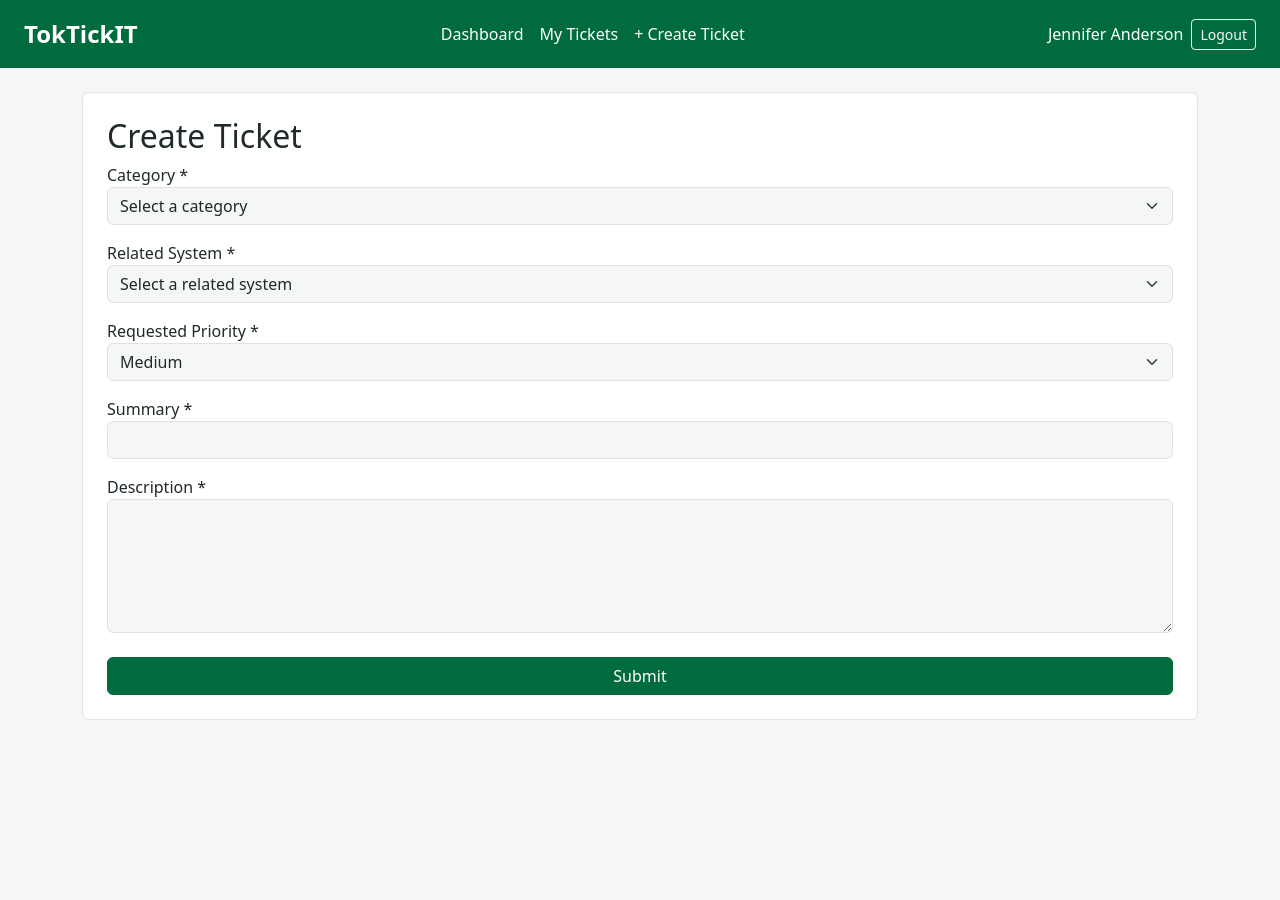
Test: CreateTicket › shows a safe error and preserves form values when backend is unreachable (UI-05)
Select "Hardware" in the dropdown labelled "Category *" at x=640, y=206, box [107, 187, 1173, 225]
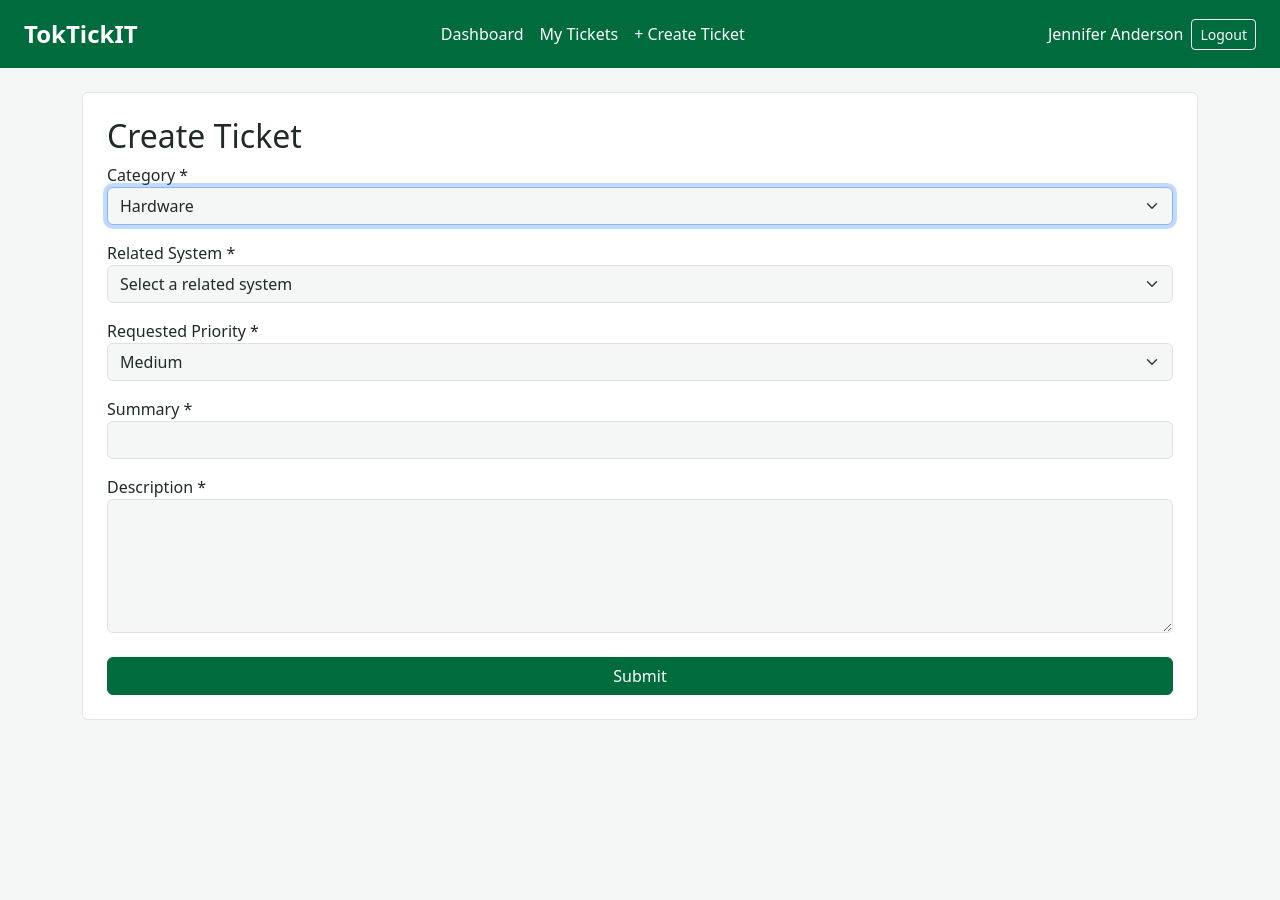
Select "Corporate Laptop" in the dropdown labelled "Related System *" at x=640, y=284, box [107, 265, 1173, 303]
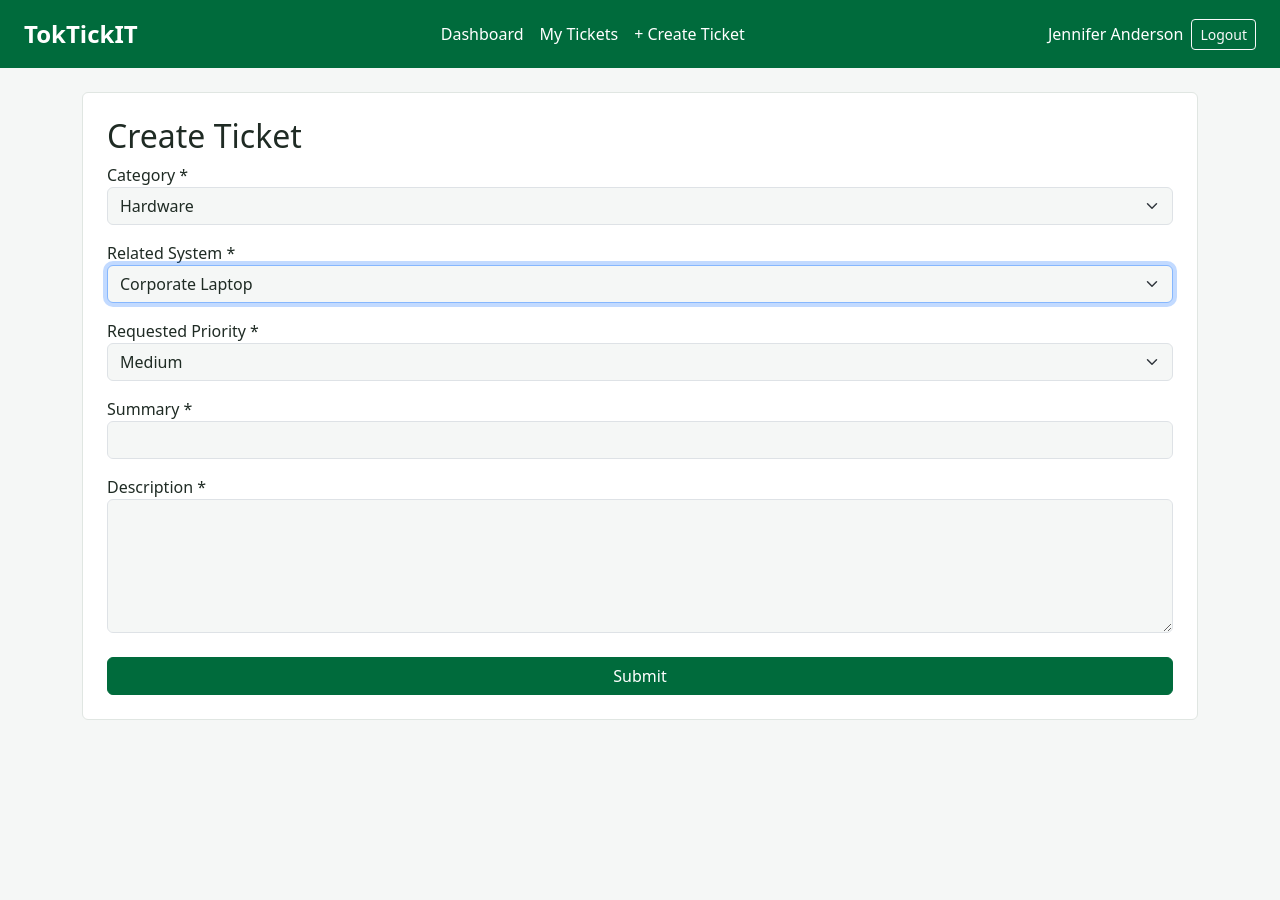
Type "Laptop battery drains quickly" into the field labelled "Summary *".
click(640, 440); type("Laptop battery drains quickly")  # box [107, 421, 1173, 459]
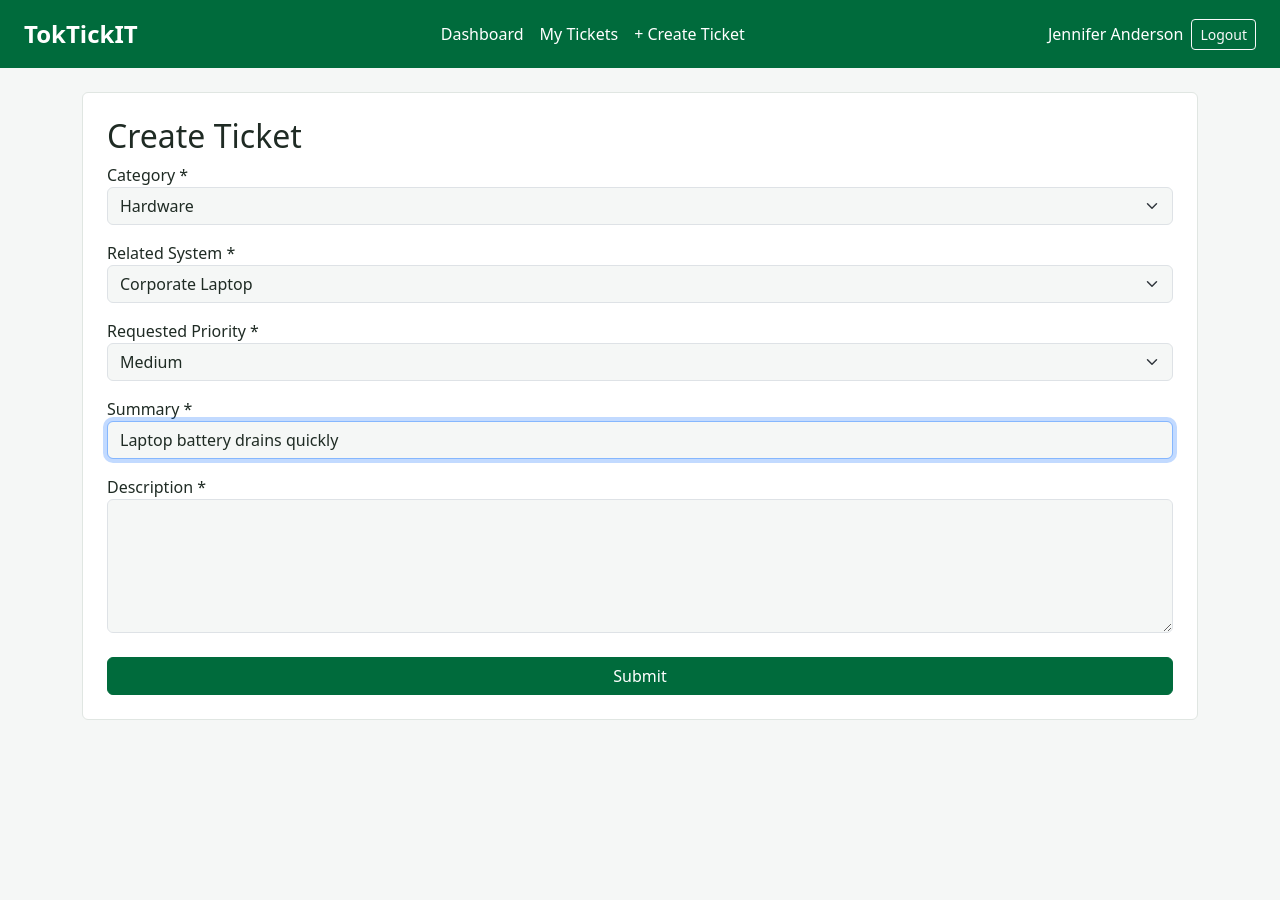
Type "Battery drains fast even when idle." into the text box labelled "Description *".
click(640, 566); type("Battery drains fast even when idle.")  # box [107, 499, 1173, 633]
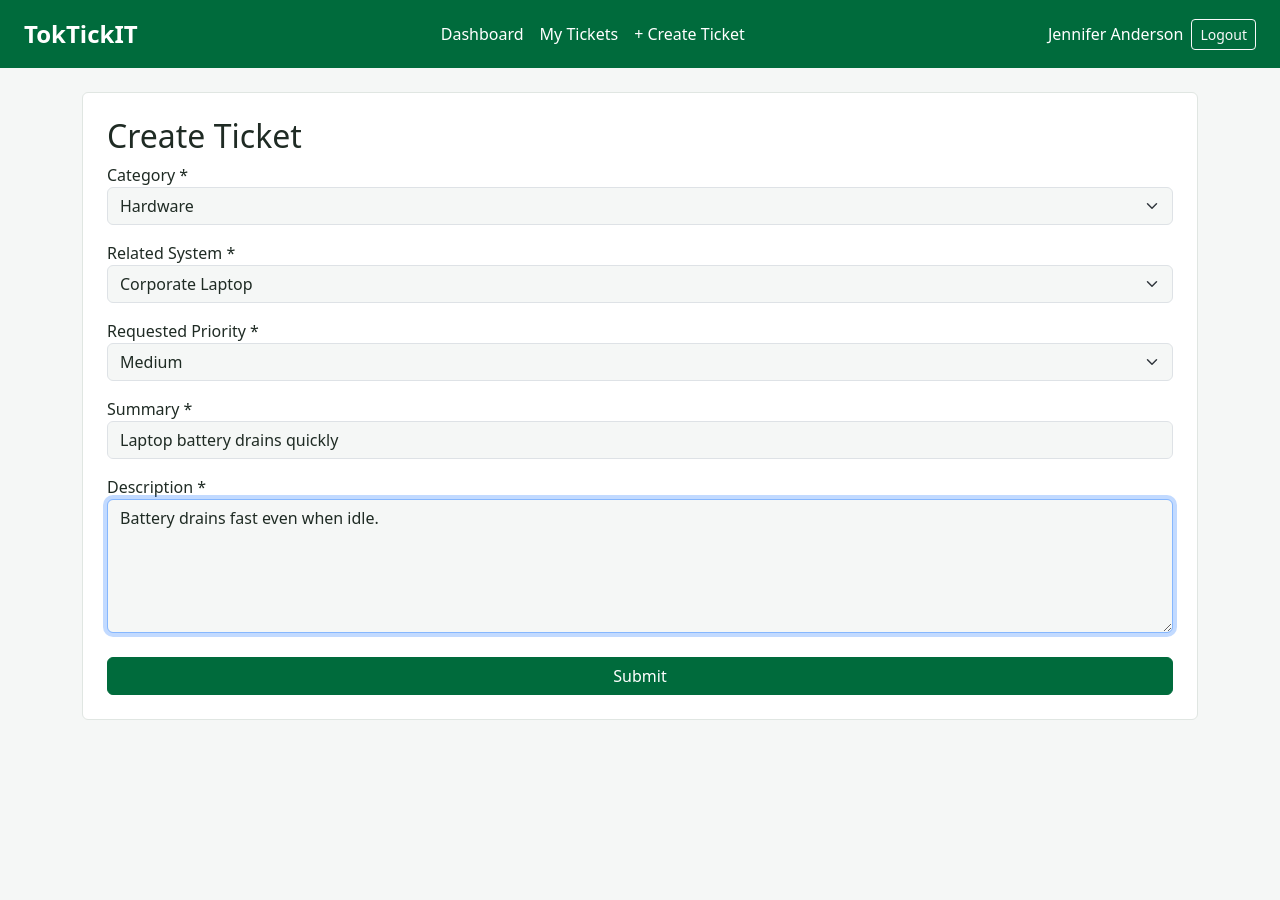
Click the button "Submit".
click(640, 676)  # box [107, 657, 1173, 695]
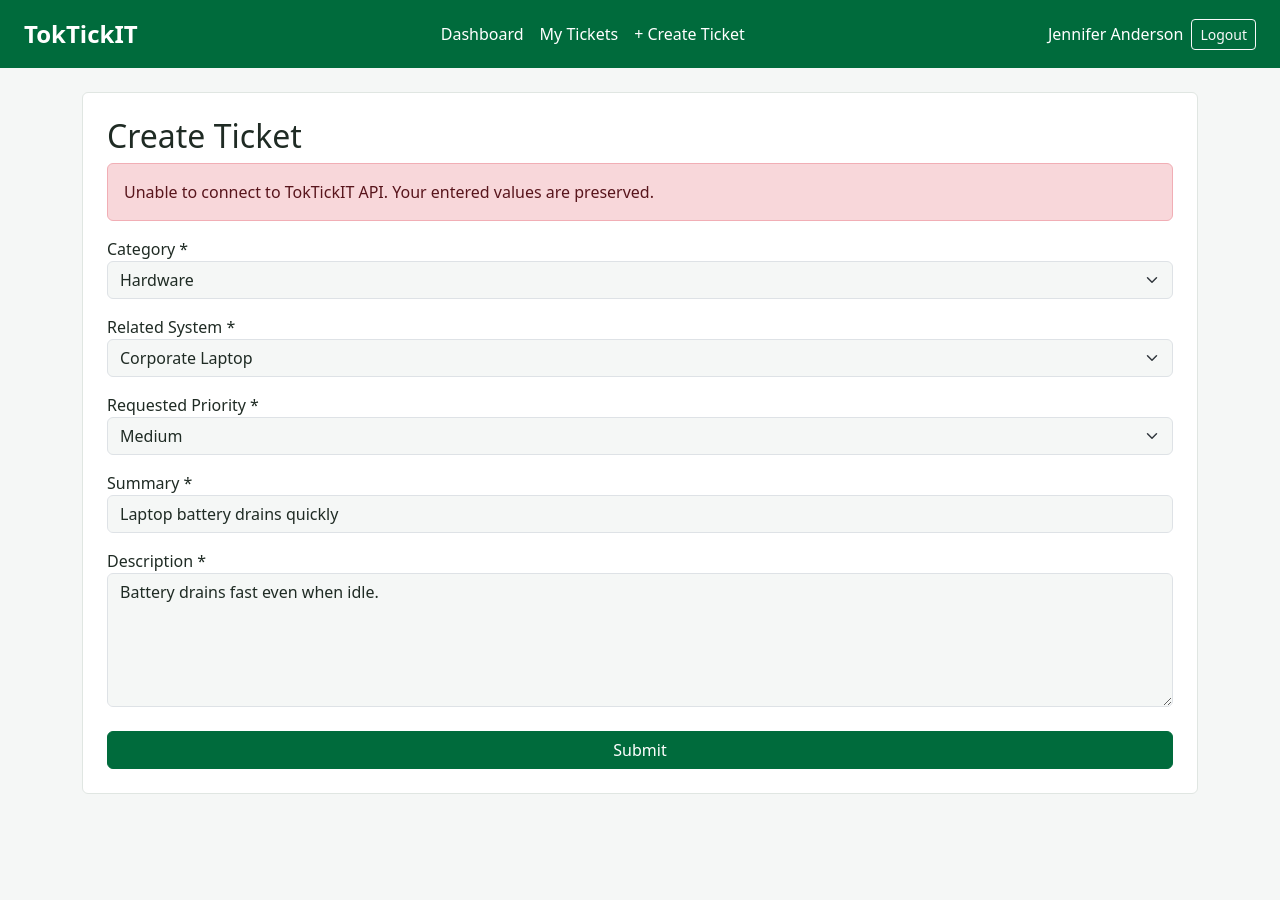
Check: the text "Unable to connect" is shown, box [124, 181, 654, 203]
